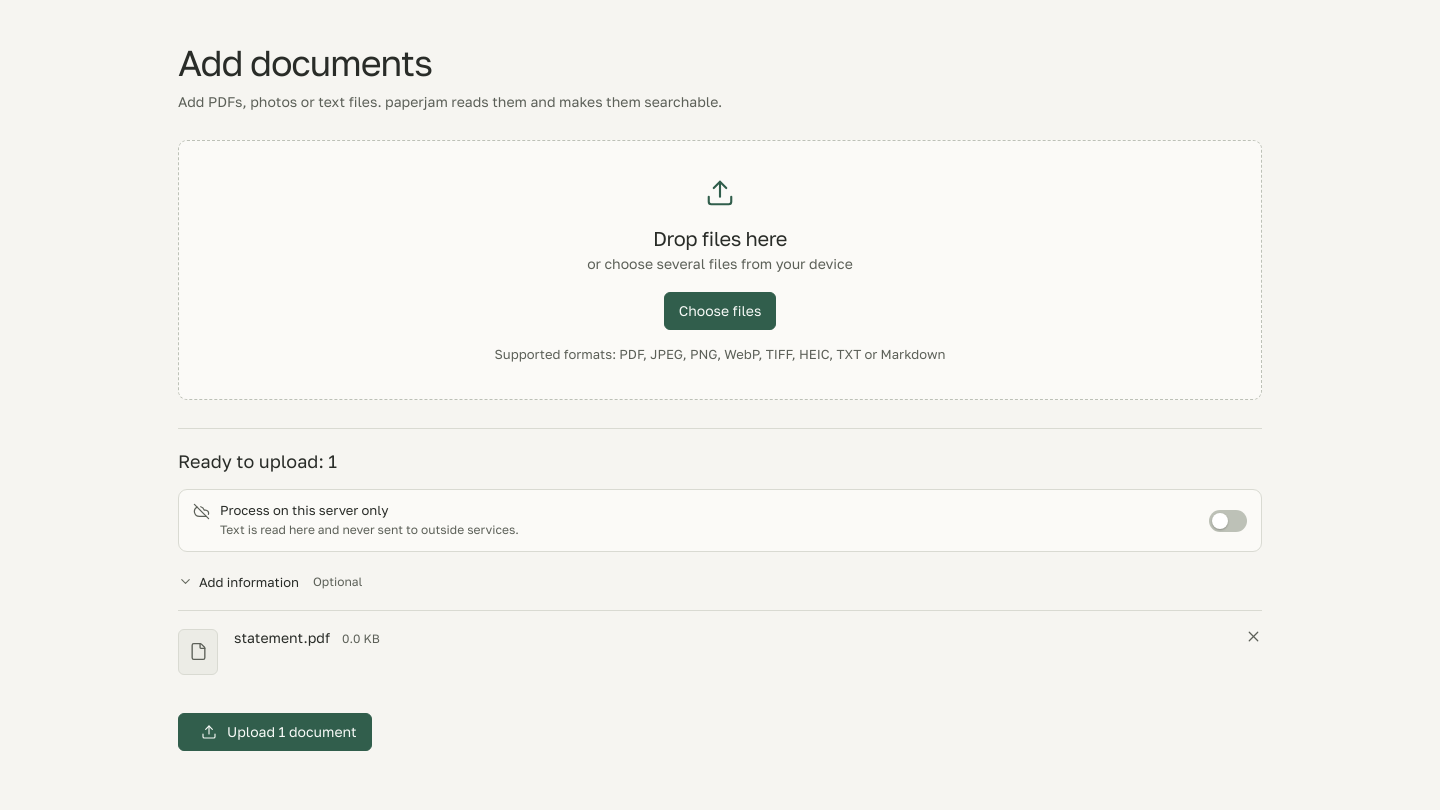
Test case: UploadPage › shows the in-progress count instead of zero while an upload runs
Earlier steps of the test are not shown.
Click the button with class "upload-start": click(275, 732) [178, 713, 372, 751]
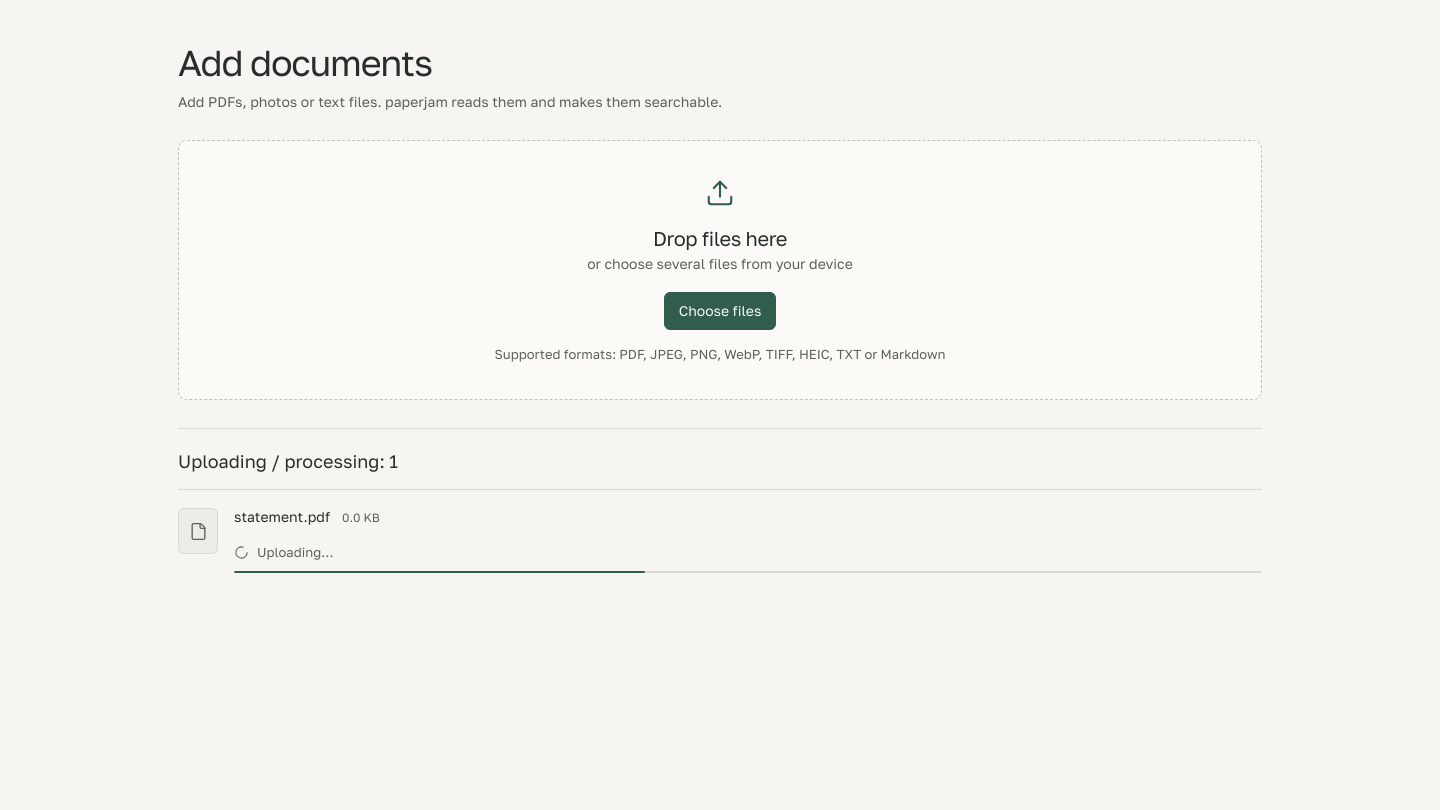
Result: the button with class "upload-start" is gone
